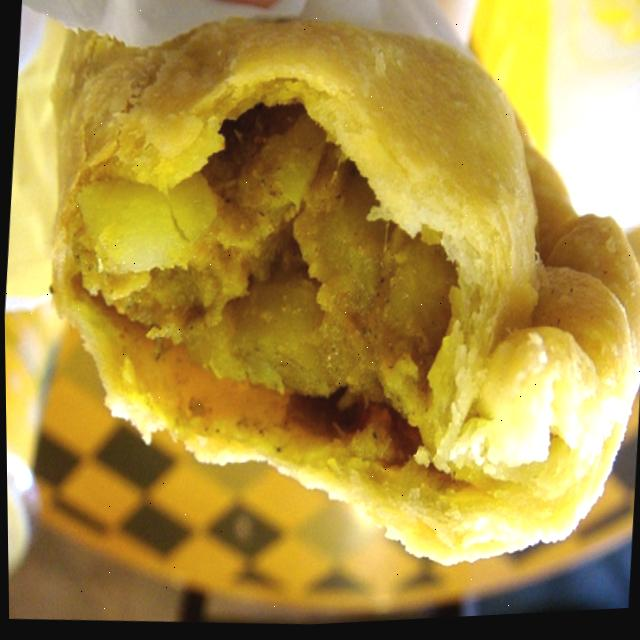炸货点心: (5, 0, 640, 629)
